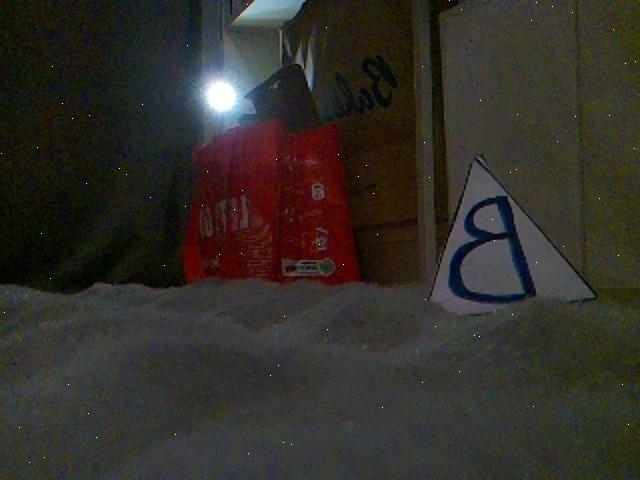B: (422, 157, 593, 325)
